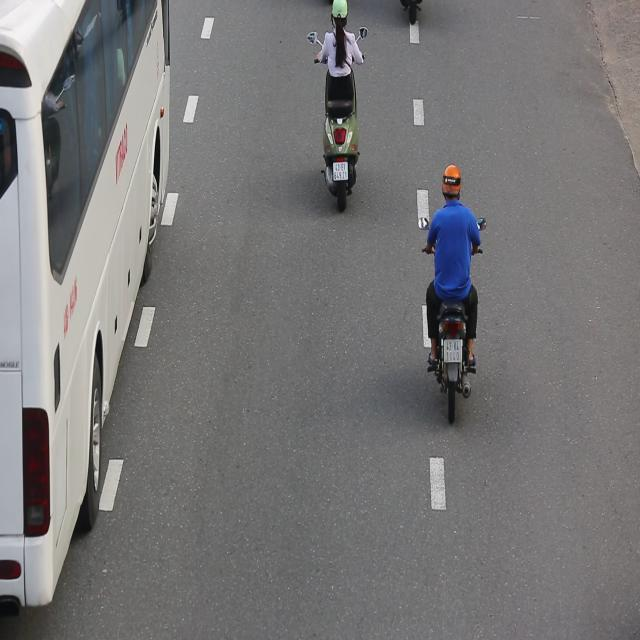motorbike: (417, 160, 488, 430), (309, 0, 371, 213)
